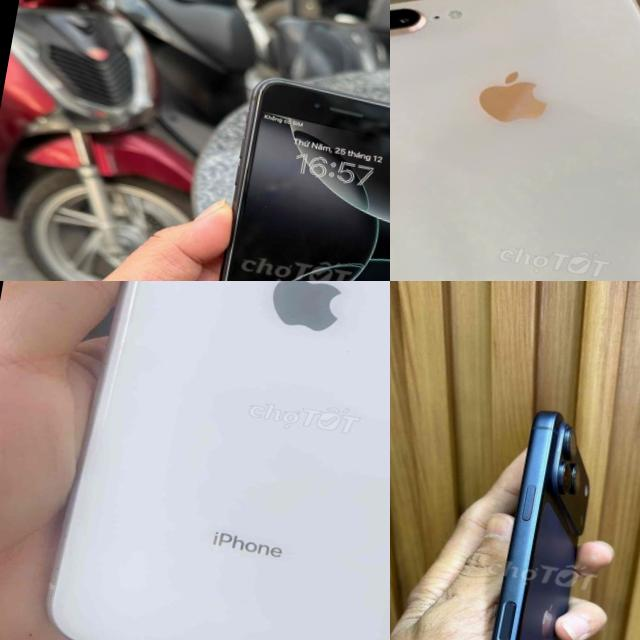gen_17: (463, 398, 634, 640)
gen_7_8: (390, 0, 640, 281), (202, 73, 390, 281)
gen_x_xs: (17, 281, 390, 640)
